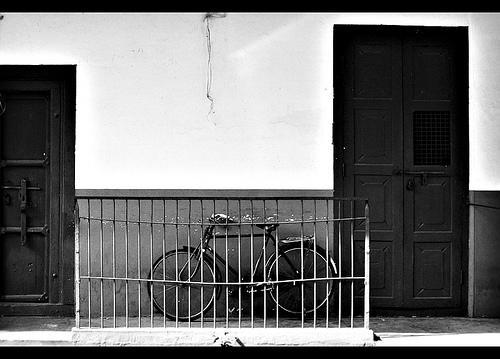bicycle: (148, 212, 341, 322)
